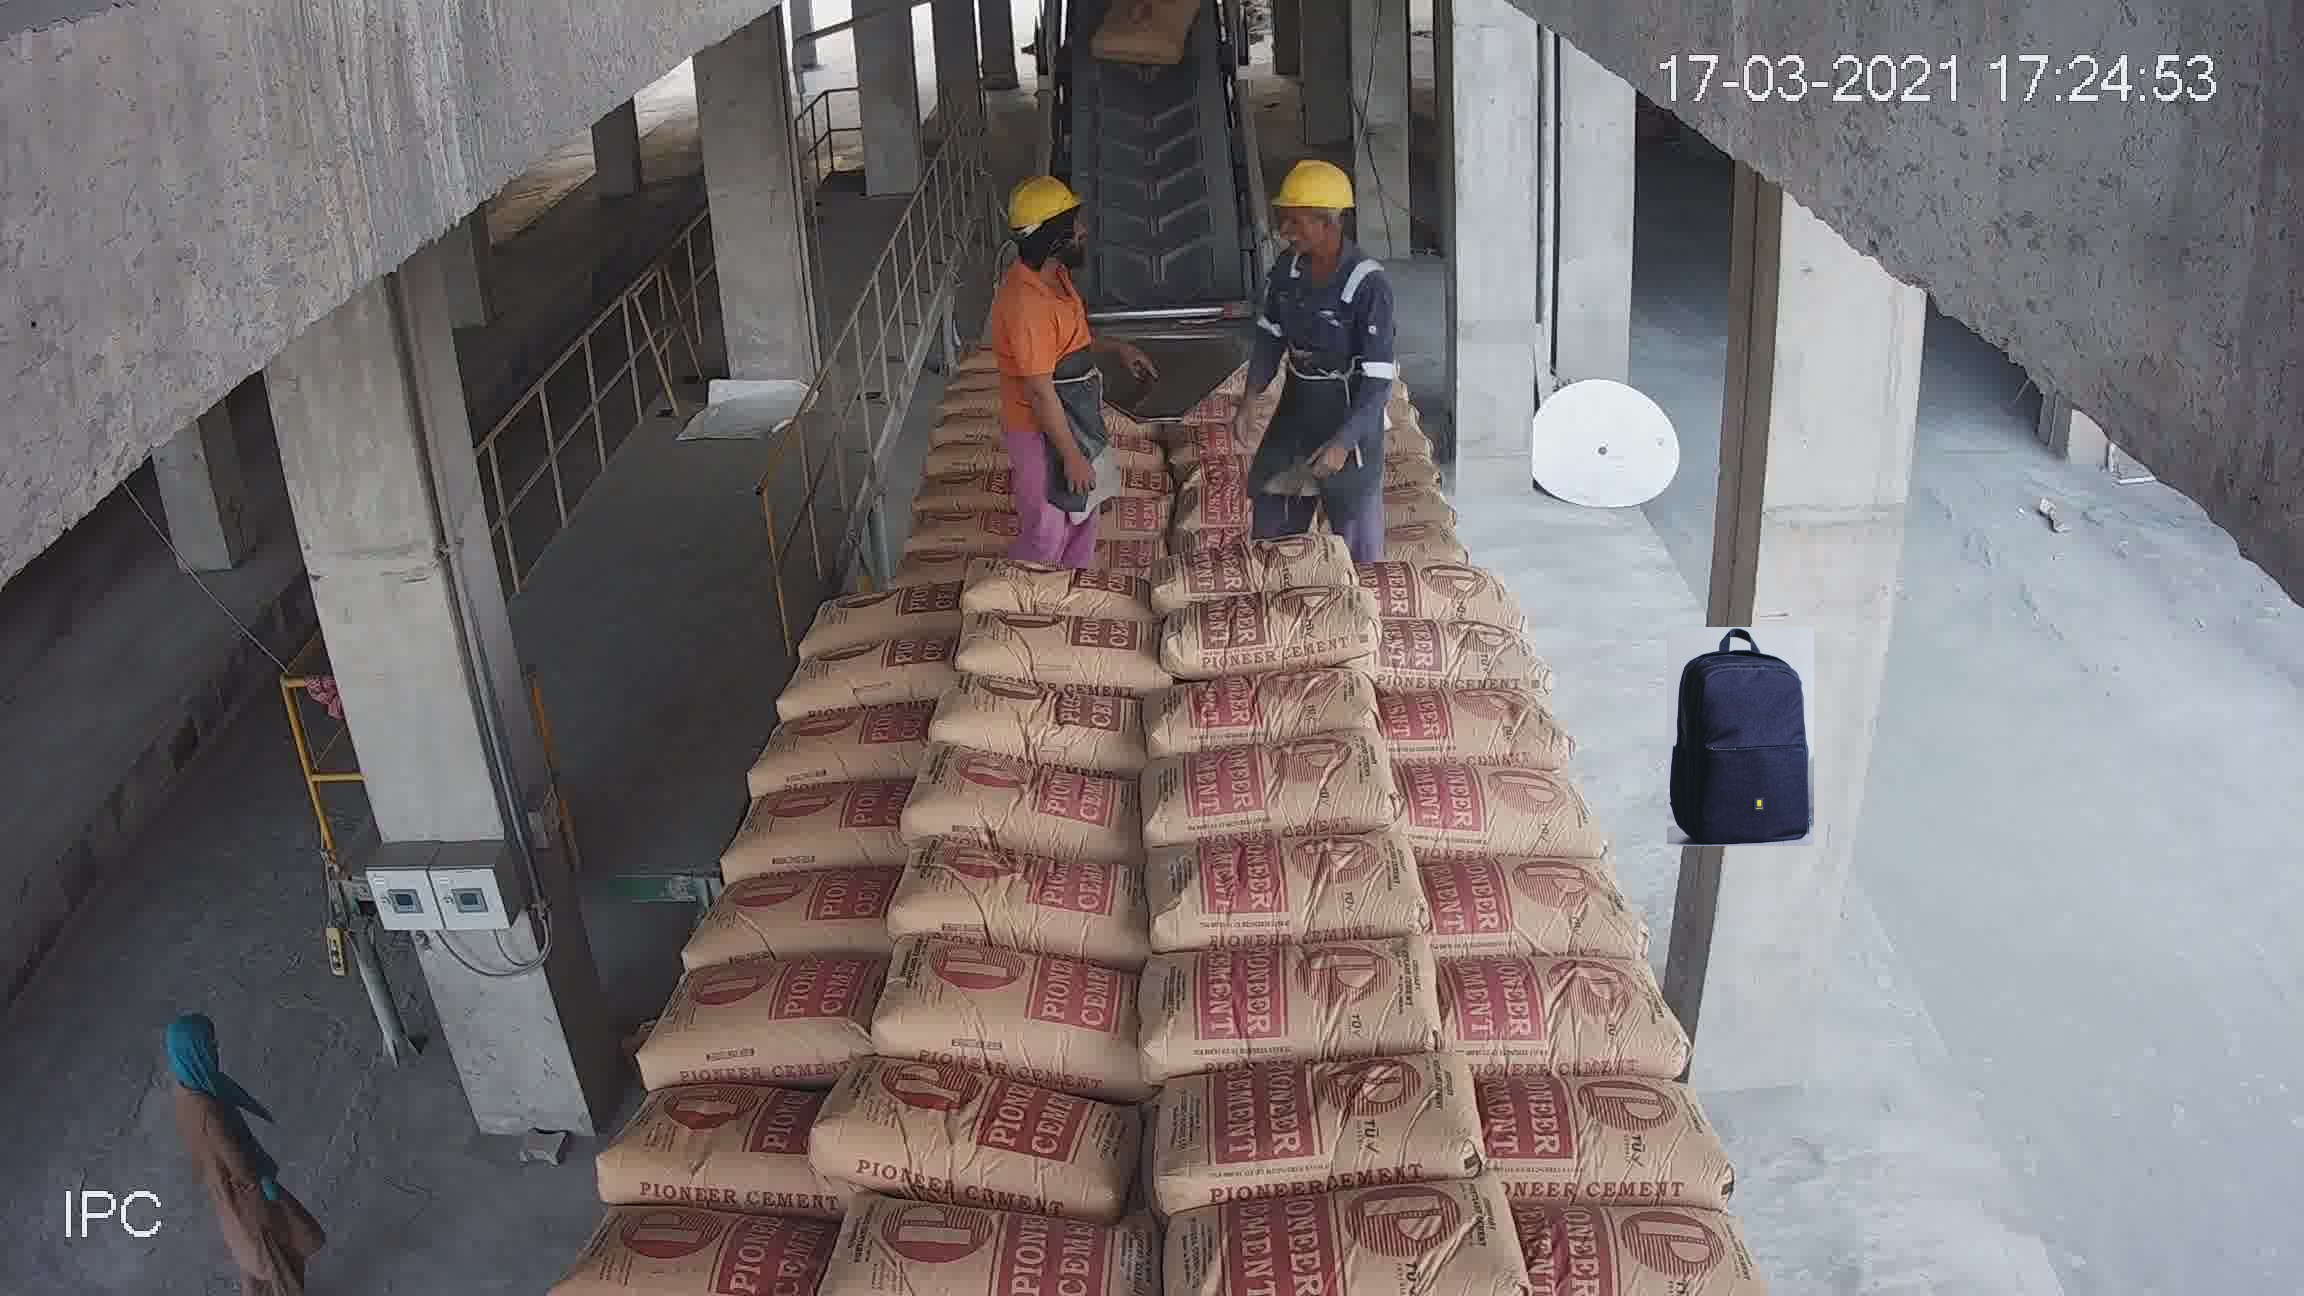bag: (1139, 296, 1287, 388), (1105, 49, 1198, 146)
bag_h: (1087, 1048, 1500, 1206), (1119, 940, 1449, 1089), (1481, 1048, 1771, 1206), (1114, 828, 1421, 953), (886, 934, 1144, 1082), (1476, 932, 1720, 1089), (1160, 1196, 1513, 1290), (1415, 836, 1647, 976), (812, 1093, 1143, 1192), (805, 1188, 1135, 1285), (576, 1082, 840, 1201), (1093, 745, 1402, 839), (535, 1199, 826, 1296), (907, 843, 1157, 953), (636, 962, 870, 1071), (1105, 657, 1389, 745), (707, 695, 924, 793), (1416, 752, 1597, 866), (1510, 1211, 1747, 1296), (937, 612, 1195, 684), (880, 766, 1143, 834), (1150, 517, 1370, 598), (1146, 473, 1336, 565), (712, 786, 911, 869), (1176, 593, 1407, 661), (785, 631, 964, 718), (949, 685, 1171, 755), (779, 571, 972, 650), (676, 885, 889, 956), (1377, 684, 1570, 760), (1364, 617, 1554, 690), (972, 551, 1166, 619), (984, 495, 1166, 562), (1155, 446, 1324, 510), (815, 529, 956, 601), (1163, 399, 1326, 460), (1370, 563, 1532, 622), (1003, 446, 1131, 519), (832, 446, 1010, 498), (1324, 405, 1457, 468), (1017, 419, 1157, 479), (828, 486, 973, 540), (1320, 472, 1483, 519), (902, 396, 1021, 453), (1320, 516, 1503, 552), (1332, 372, 1416, 426), (934, 366, 1024, 410), (1324, 340, 1416, 381), (1320, 321, 1374, 351)
belt: (1048, 16, 1260, 253)
